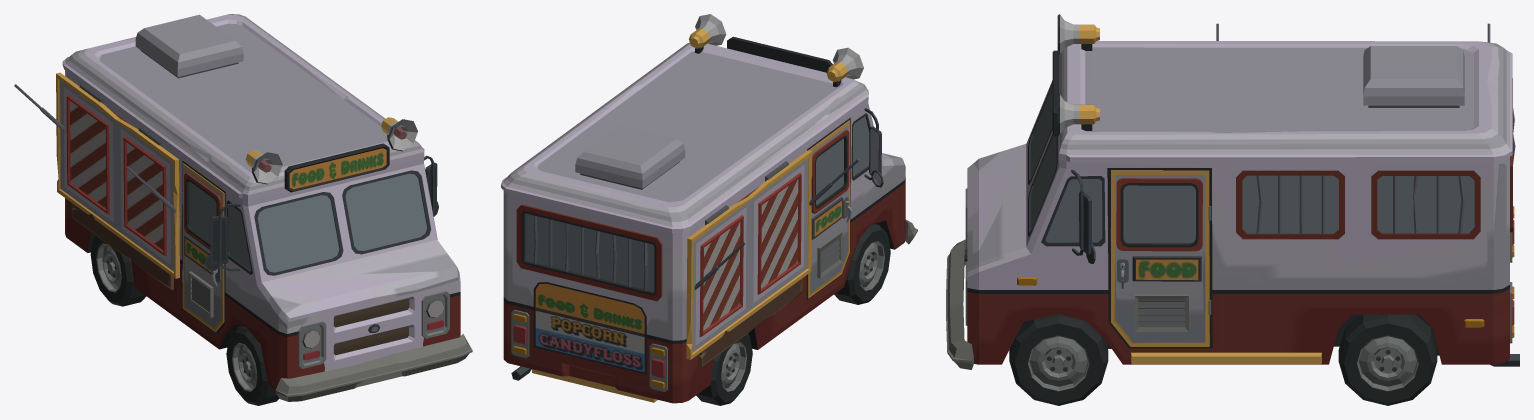
The model's file is truck-food.glb.
The picture shows the model from 3 angles, left to right: view 1: azimuth 30°, elevation 25°; view 2: azimuth 150°, elevation 25°; view 3: azimuth 270°, elevation 25°; orthographic projection. The views are drawn at different scales.
Parts seen in each view (by area): view 1: SM_Veh_Truck_Food_01; view 2: SM_Veh_Truck_Food_01; view 3: SM_Veh_Truck_Food_01.
Part boxes in pixels (x1=…): SM_Veh_Truck_Food_01: x1=14, y1=14, x2=472, y2=405; SM_Veh_Truck_Food_01: x1=501, y1=14, x2=917, y2=405; SM_Veh_Truck_Food_01: x1=946, y1=14, x2=1519, y2=405.
Size of the model in its own units: 303 by 272 by 473.
1 material, 1 textured.
